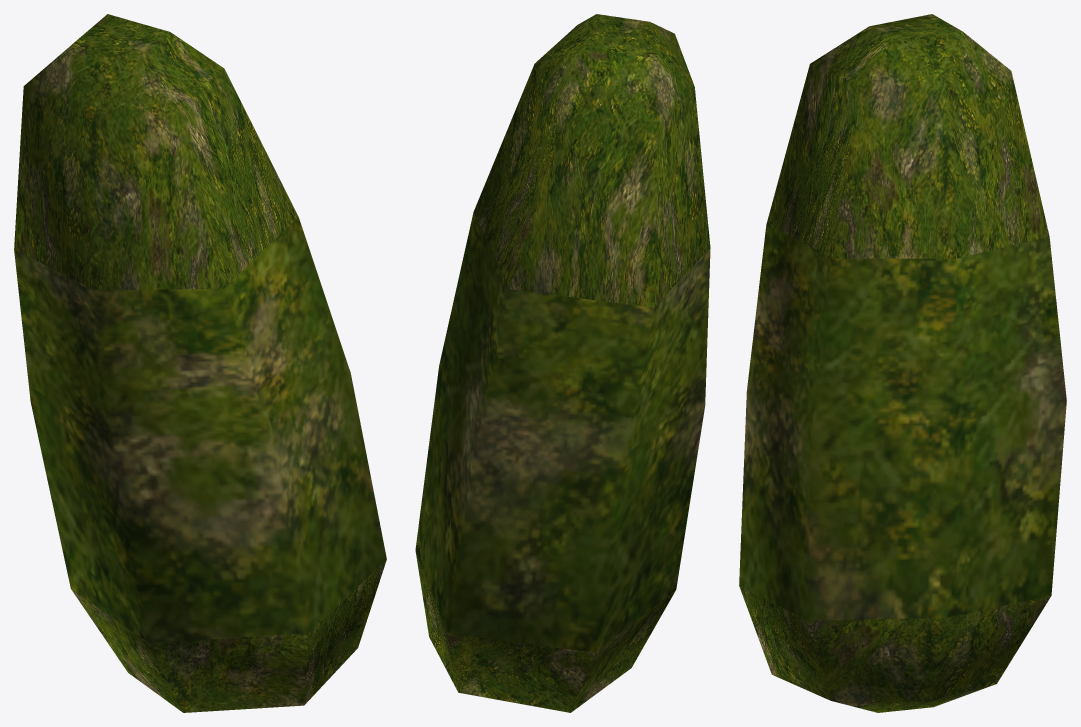
File: OVERHILL_A_01_ROCK_BRIDGE10.fbx
The picture shows the model from 3 angles, left to right: view 1: azimuth 30°, elevation 25°; view 2: azimuth 150°, elevation 25°; view 3: azimuth 270°, elevation 25°; orthographic projection. The views are drawn at different scales.
Parts seen in each view (by area): view 1: OVERHILL_A_01_ROCK_BRIDGE10; view 2: OVERHILL_A_01_ROCK_BRIDGE10; view 3: OVERHILL_A_01_ROCK_BRIDGE10.
Part boxes in pixels (x1,y1,x2,y2): OVERHILL_A_01_ROCK_BRIDGE10: (14, 14, 386, 712); OVERHILL_A_01_ROCK_BRIDGE10: (415, 14, 710, 712); OVERHILL_A_01_ROCK_BRIDGE10: (739, 14, 1066, 712).
Size of the model in its own units: 26999 by 62783 by 29379.
1 material, 1 textured.
